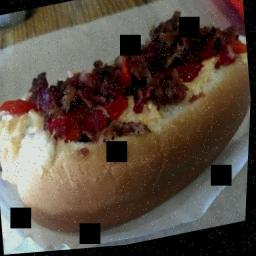hotdog: (222, 25, 247, 46), (0, 126, 7, 178)
